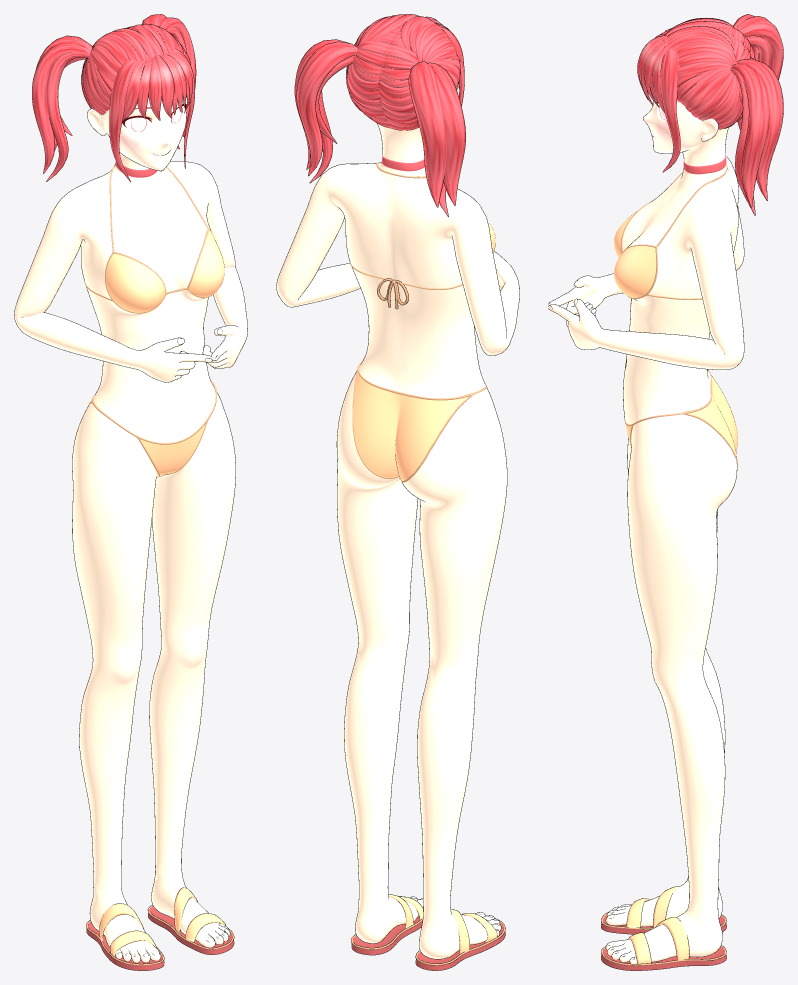
File: anime_girl.glb
3 views of the same model, side by side, from view 1: azimuth 30°, elevation 25°; view 2: azimuth 150°, elevation 25°; view 3: azimuth 270°, elevation 25° (orthographic). The views are drawn at different scales.
Parts seen in each view (by area): view 1: ags_M; view 2: ags_M; view 3: ags_M.
Boxes of the visible parts, x1,y1,x2,y2 form: ags_M: (14,14,247,970); ags_M: (276,14,519,970); ags_M: (548,14,783,970).
Bounding box in the file's own units: 1.66 × 6.48 × 1.51.
5 materials, 4 textured.
